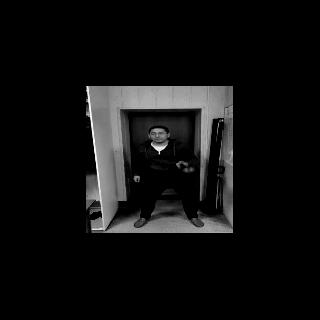kettlebell: (175, 161, 198, 179)
